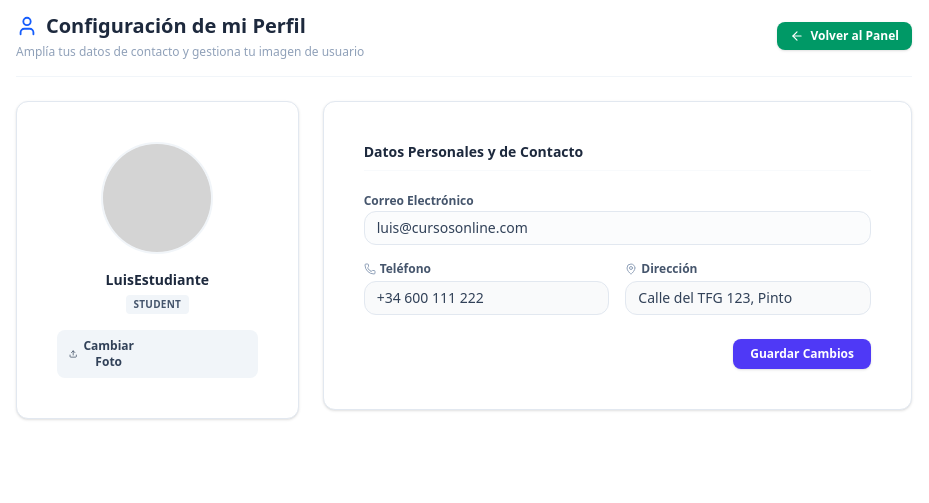
ProfileSettings Component - Pruebas de Carga e Interacción [ADR-13] › CASO POSITIVO: Debe registrar las mutaciones en caliente del formulario y retener los cambios al Guardar
The width and height of the screenshot is (929, 503).
Replace the text in the field with placeholder "Ej: +34 600 000 000" below "Teléfono" with "+34 699 999 999" at (487, 298), box [364,281,609,315]
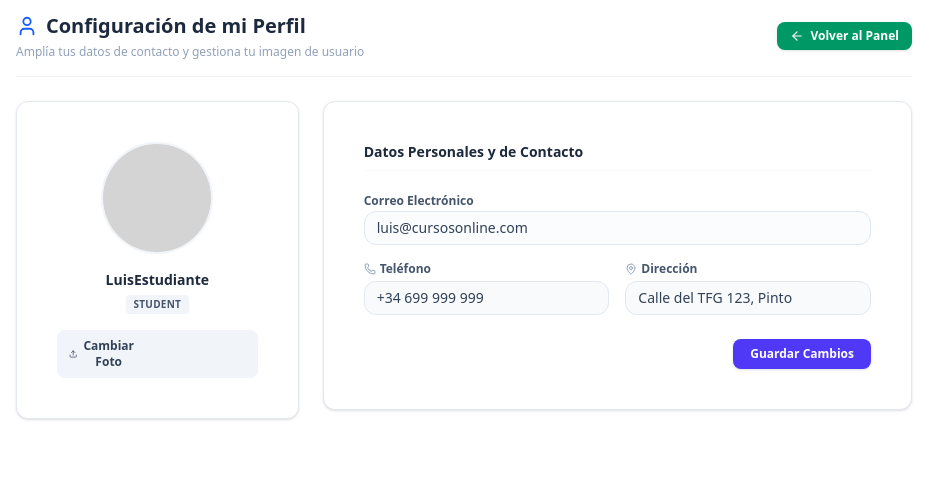
Click the button "Guardar Cambios" at (802, 354), box [733,339,871,369]
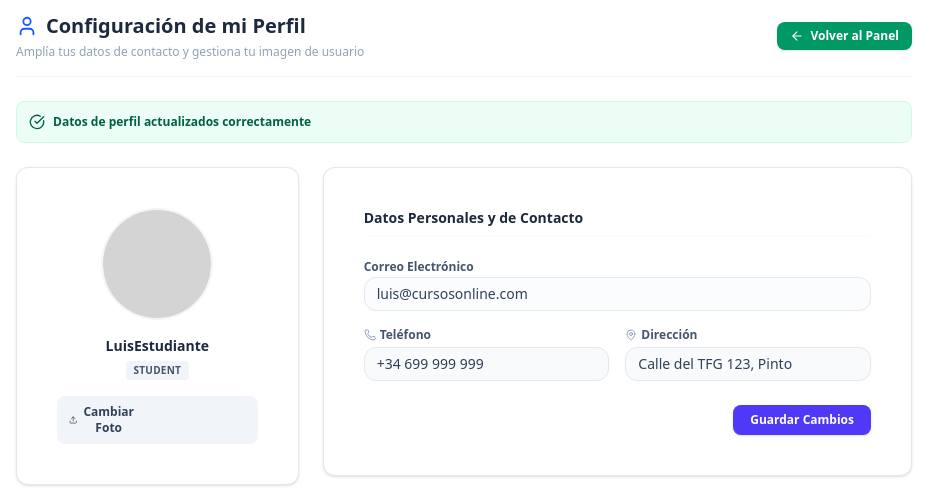
Expected: the text "Datos de perfil actualizados correctamente" is shown, [53,114,311,130]
